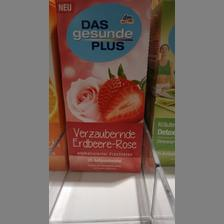Tee: (53, 0, 150, 172)
